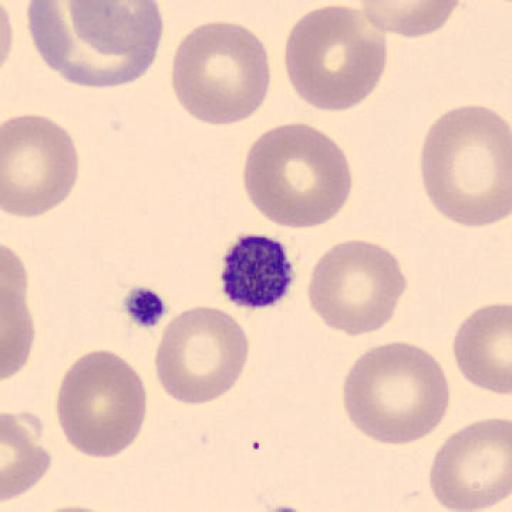Platelet: (218, 231, 297, 311), (119, 283, 170, 331)
RBC: (242, 120, 352, 230), (341, 339, 451, 448), (418, 102, 512, 229), (283, 1, 388, 113), (170, 19, 272, 128), (54, 347, 148, 460), (306, 237, 408, 338), (154, 304, 250, 407), (65, 0, 164, 89), (1, 112, 80, 218), (428, 416, 512, 512), (452, 301, 512, 397), (67, 0, 163, 59), (1, 245, 36, 383), (1, 410, 52, 504), (358, 0, 463, 39), (0, 0, 14, 72), (32, 503, 121, 512)
WBC: (26, 0, 164, 90)
